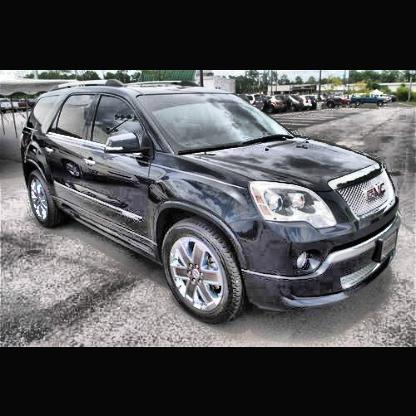GMC Acadia SUV 2012: (22, 81, 403, 321)
